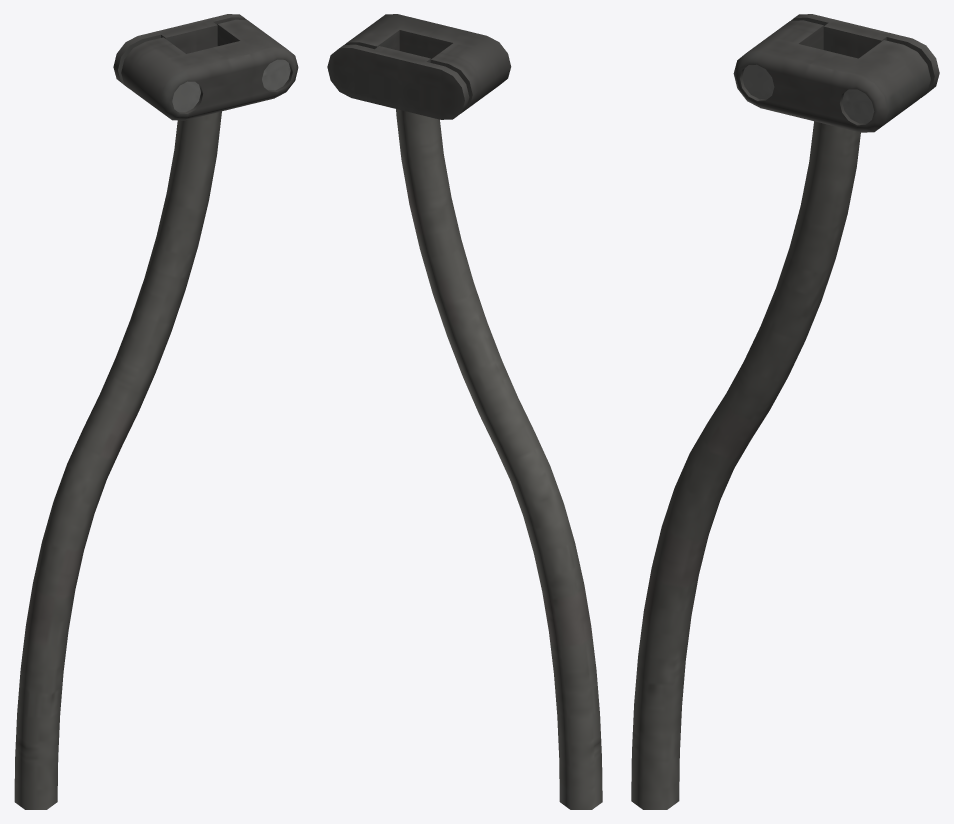
The model's file is cable_scurve_3.gltf.
3 renders of one model, left to right at view 1: azimuth 30°, elevation 25°; view 2: azimuth 150°, elevation 25°; view 3: azimuth 330°, elevation 25°, orthographic. The views are drawn at different scales.
Visible parts, largest first — view 1: cable_scurve_3; view 2: cable_scurve_3; view 3: cable_scurve_3.
Part boxes in pixels (box(x1,y1,x2,y2)): cable_scurve_3: box(14, 14, 298, 809); cable_scurve_3: box(327, 14, 602, 809); cable_scurve_3: box(631, 14, 939, 809).
Size of the model in its own units: 0.0757 by 0.2073 by 0.0259.
Materials: 1 (1 with a texture image).
